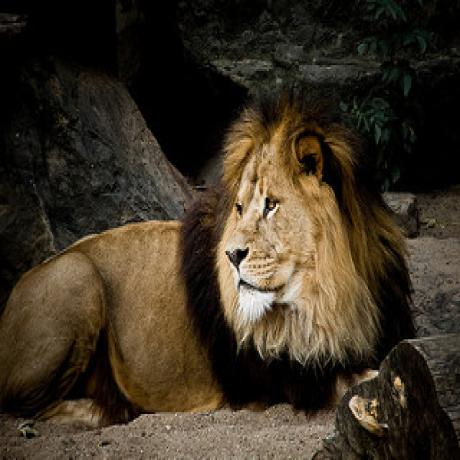Lion: (0, 74, 418, 400)
